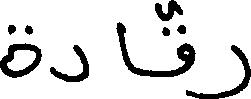X: (197, 40, 250, 98), (0, 20, 40, 82), (178, 0, 195, 98), (52, 40, 88, 86), (117, 17, 133, 77)
